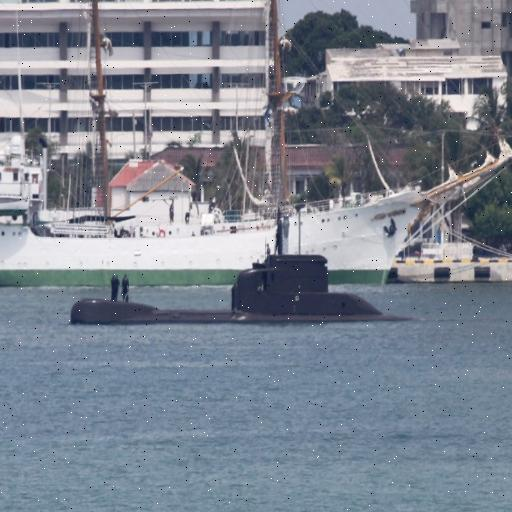submarine: (73, 189, 458, 325)
